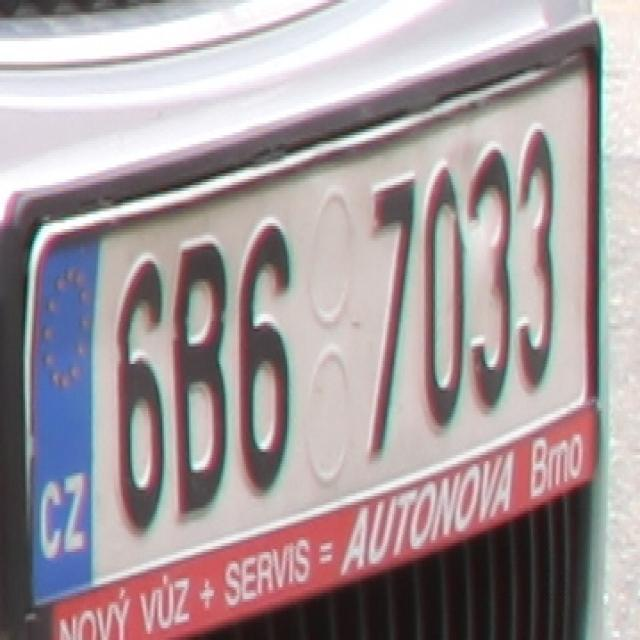0: (420, 156, 466, 438)
3: (465, 138, 512, 420), (517, 120, 558, 394)
6: (233, 212, 290, 496), (114, 252, 166, 544)
7: (362, 167, 414, 464)
B: (170, 238, 228, 522)
